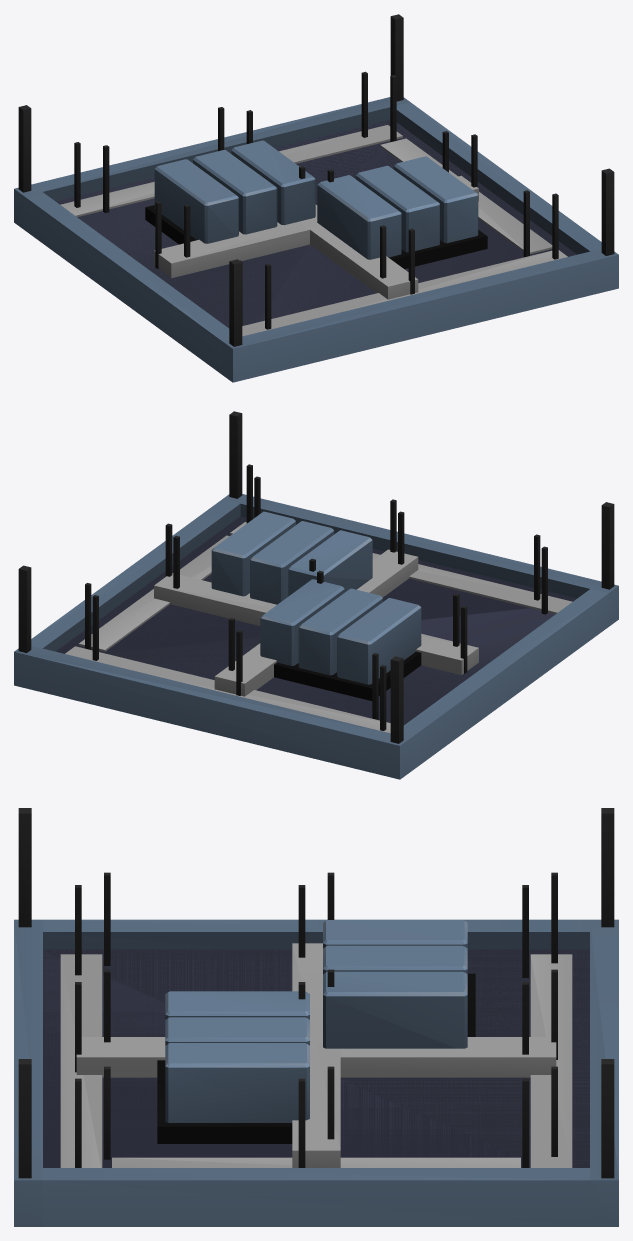
File: veyran_defence_tower_foundation.glb
The picture shows the model from 3 angles, top to bottom: view 1: azimuth 30°, elevation 25°; view 2: azimuth 150°, elevation 25°; view 3: azimuth 270°, elevation 25°; orthographic projection. The views are drawn at different scales.
Parts seen in each view (by area): view 1: body (×3); view 2: body (×3); view 3: body (×3).
Boxes of the visible parts, x1,y1,x2,y2 form: body (×3): (14, 14, 618, 382); body (×3): (14, 411, 618, 779); body (×3): (14, 808, 618, 1226).
Bounding box in the file's own units: 3.83 × 1.1 × 3.76.
